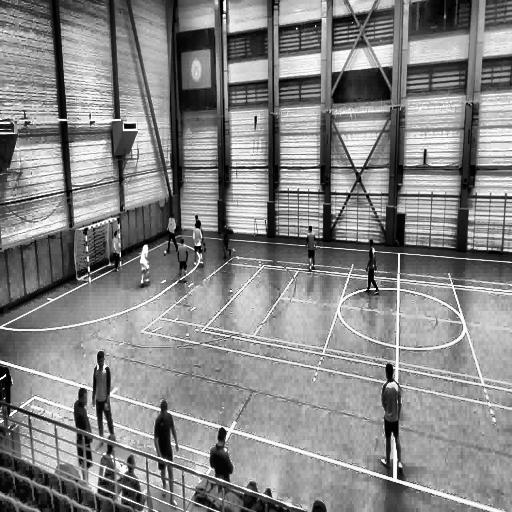ball: (164, 250, 166, 255)
player: (377, 360, 403, 471), (155, 399, 180, 504), (92, 353, 114, 448), (74, 388, 94, 488), (365, 240, 378, 294), (138, 240, 152, 286), (194, 212, 208, 252), (166, 214, 179, 255), (307, 225, 318, 273), (193, 221, 204, 269), (177, 238, 188, 282), (112, 229, 122, 273), (222, 218, 232, 259)
